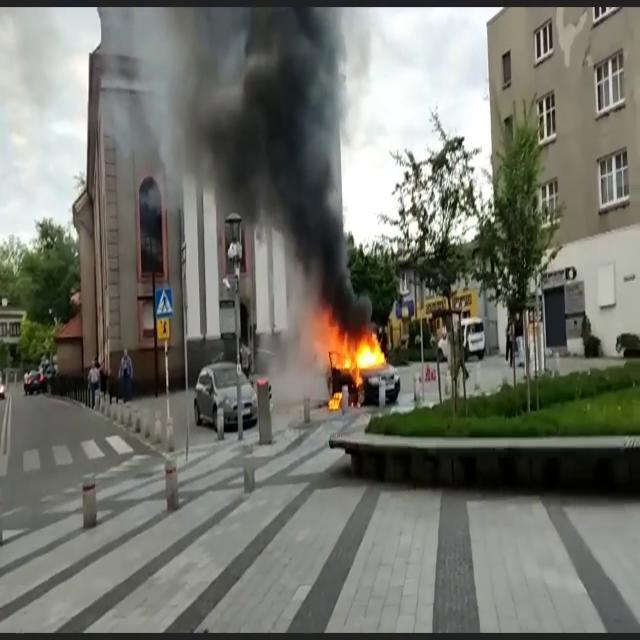Fire: (312, 312, 388, 398)
Smoke: (136, 2, 362, 292)
